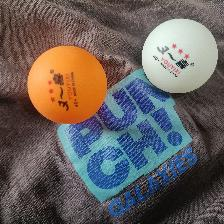WhiteBall: (141, 18, 217, 93)
YellowBall: (27, 45, 107, 125)
